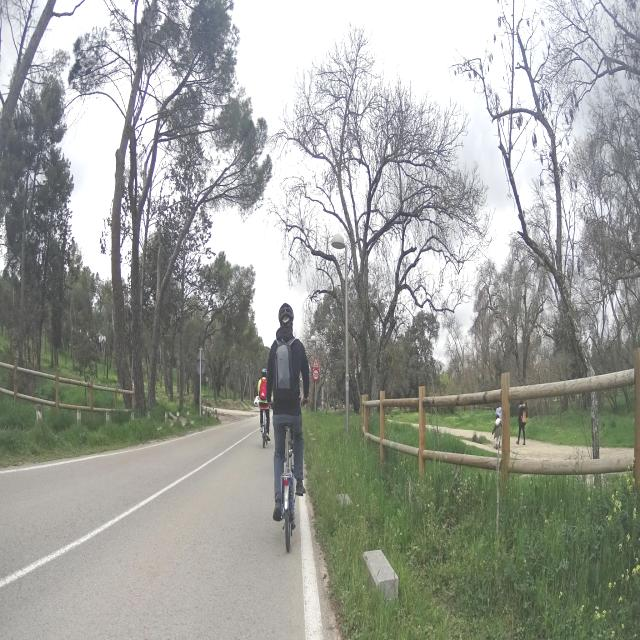bike: (268, 385, 306, 556)
